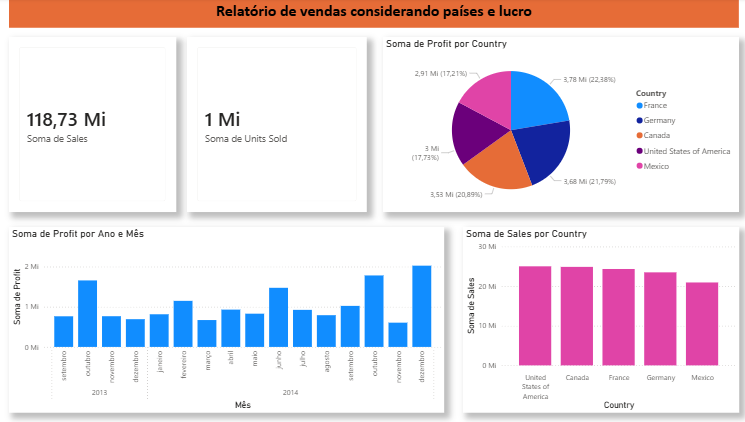

The page's visual inventory and layout, read from the dashboard file:
{"tool":"powerbi","page":{"name":"Página 2","canvas":[1280,720],"ordinal":1},"visuals":[{"type":"cardVisual","fields":{"Data":["Sum(financials.Sales)"]},"box":[38.6,65.5,280.5,294],"z":0},{"type":"cardVisual","fields":{"Data":["Sum(financials.Units Sold)"]},"box":[337.6,65.5,302.4,294],"z":1},{"type":"pieChart","fields":{"Category":["financials.Country"],"Y":["Sum(financials.Profit)"]},"box":[666.9,65.5,598,294],"z":2},{"type":"clusteredColumnChart","fields":{"Category":["financials.Date.Variation.Hierarquia de datas.Ano","financials.Date.Variation.Hierarquia de datas.Mês"],"Y":["Sum(financials.Profit)"]},"box":[38.6,384.7,730.7,312.4],"z":3},{"type":"clusteredColumnChart","fields":{"Category":["financials.Country"],"Y":["Sum(financials.Sales)"]},"box":[801.3,384.7,463.6,312.4],"z":4},{"type":"textbox","box":[38.6,0,1226.2,50.4],"z":5}]}

Visuals, with their boxes in screenshot pixels (x1, y1, x2, y2), scaled from the page's 1280x720 canvas onto the 745x422 screenshot:
cardVisual - Sum(financials.Sales): Rect(22, 38, 186, 211)
cardVisual - Sum(financials.Units Sold): Rect(196, 38, 372, 211)
pieChart - financials.Country x Sum(financials.Profit): Rect(388, 38, 736, 211)
clusteredColumnChart - financials.Date.Variation.Hierarquia de datas.Ano x financials.Date.Variation.Hierarquia de datas.Mês: Rect(22, 225, 448, 409)
clusteredColumnChart - financials.Country x Sum(financials.Sales): Rect(466, 225, 736, 409)
textbox: Rect(22, 0, 736, 30)
